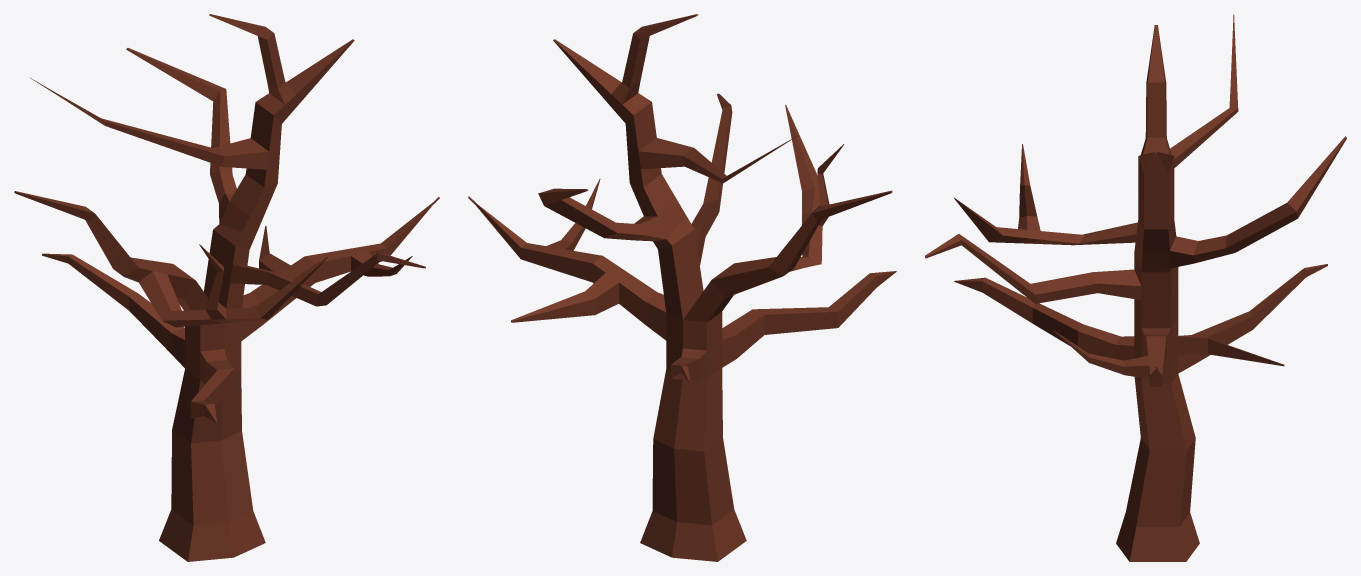
Rendered from bettertree.fbx.
The picture shows the model from 3 angles, left to right: view 1: azimuth 30°, elevation 25°; view 2: azimuth 150°, elevation 25°; view 3: azimuth 270°, elevation 25°; orthographic projection. The views are drawn at different scales.
Visible parts, largest first — view 1: Cube; view 2: Cube; view 3: Cube.
Boxes of the visible parts, box(x1,y1,x2,y2) form: Cube: box(14, 14, 439, 561); Cube: box(468, 14, 896, 561); Cube: box(925, 14, 1346, 561).
Size of the model in its own units: 830 by 989 by 731.
